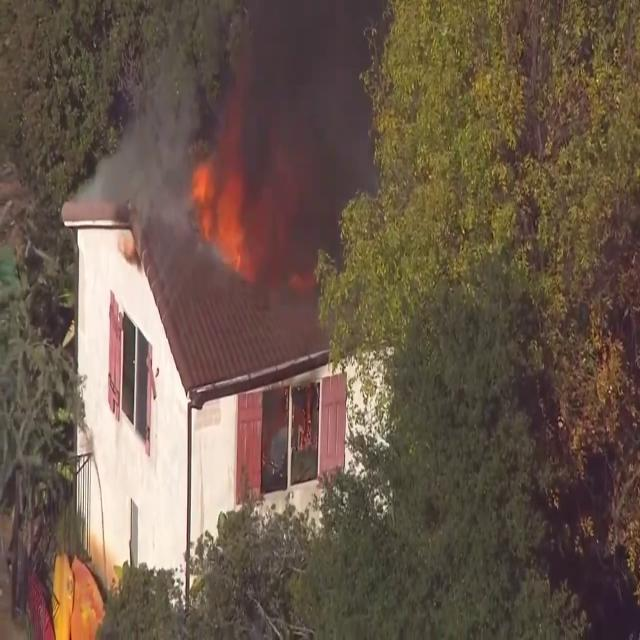Fire: (188, 137, 252, 276)
Smoke: (76, 0, 372, 288)
